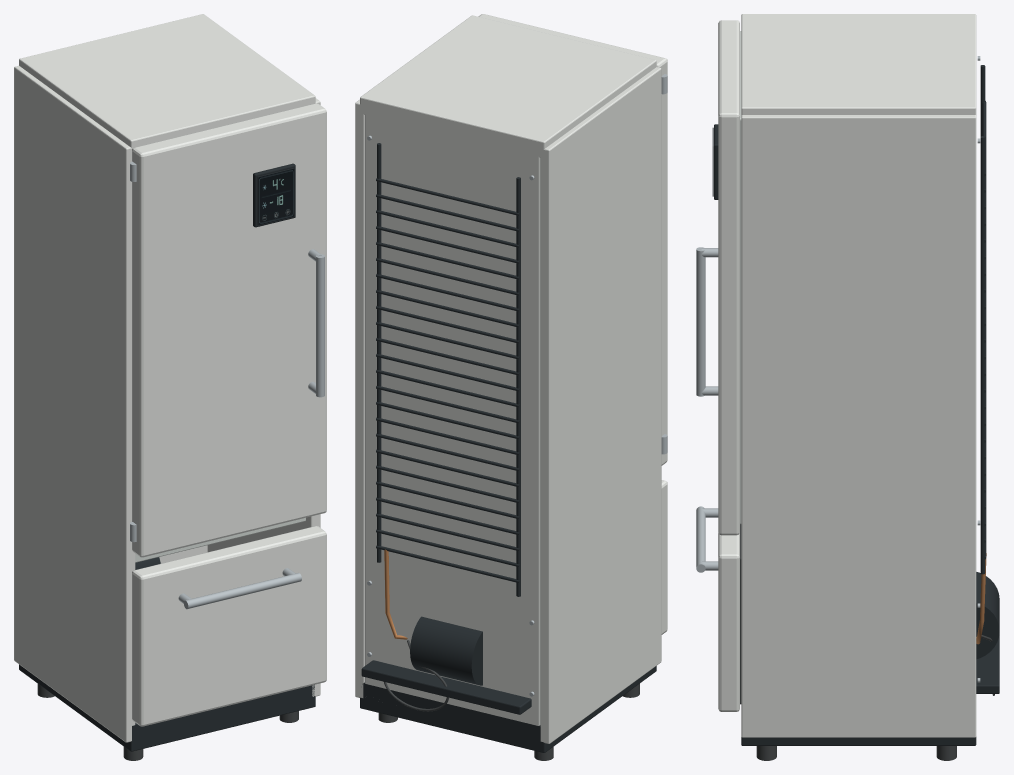
Rendered from household-two-door-refrigerator.glb.
3 views of the same model, side by side, from view 1: azimuth 30°, elevation 25°; view 2: azimuth 150°, elevation 25°; view 3: azimuth 270°, elevation 25° (orthographic). The views are drawn at different scales.
Parts seen in each view (by area): view 1: Upper door outer skin, Insulated left wall, Freezer drawer front, Insulated roof, Chassis, CONTROL_ATLAS_FRONT, Upper door handle, Freezer drawer handle, Insulated right wall, Insulated compartment divider, Control panel bezel; view 2: Insulated back wall, Insulated left wall, Insulated roof, Insulated right wall, Chassis, Sealed compressor, Upper door outer skin, Rear machinery tray, Condenser vertical rail, Condenser vertical rail.001, Freezer drawer front, Condenser horizontal tube.012 (+23 smaller); view 3: Insulated right wall, Insulated roof, Upper door outer skin, Freezer drawer front, Condenser vertical rail.001, Chassis, Sealed compressor, Upper door handle, Rear machinery tray, Upper door inner liner, Freezer drawer handle.
Part boxes in pixels (box(x1,y1,x2,y2)): Upper door outer skin: box(132, 103, 326, 557); Insulated left wall: box(14, 65, 135, 742); Freezer drawer front: box(132, 526, 326, 726); Insulated roof: box(19, 14, 315, 148); Chassis: box(19, 664, 315, 751); CONTROL_ATLAS_FRONT: box(257, 168, 294, 225); Upper door handle: box(316, 254, 324, 397); Freezer drawer handle: box(183, 573, 301, 609); Insulated right wall: box(207, 98, 320, 696); Insulated compartment divider: box(135, 517, 305, 562); Control panel bezel: box(253, 163, 295, 227); Insulated back wall: box(365, 106, 540, 725); Insulated left wall: box(540, 67, 661, 743); Insulated roof: box(360, 15, 656, 157); Insulated right wall: box(355, 99, 364, 697); Chassis: box(360, 666, 656, 752); Sealed compressor: box(410, 616, 482, 685); Upper door outer skin: box(478, 14, 667, 465); Rear machinery tray: box(361, 660, 531, 714); Condenser vertical rail: box(516, 177, 520, 596); Condenser vertical rail.001: box(377, 143, 381, 562); Freezer drawer front: box(661, 480, 667, 634); Condenser horizontal tube.012: box(376, 354, 519, 391); Insulated right wall: box(741, 115, 976, 737); Insulated roof: box(741, 14, 976, 114); Upper door outer skin: box(718, 20, 739, 535); Freezer drawer front: box(718, 533, 739, 711); Condenser vertical rail.001: box(980, 136, 985, 574); Chassis: box(741, 737, 976, 745); Sealed compressor: box(976, 572, 999, 659); Upper door handle: box(696, 247, 705, 396); Rear machinery tray: box(976, 633, 999, 693); Upper door inner liner: box(740, 31, 741, 524); Freezer drawer handle: box(696, 506, 705, 572).
Size of the model in its own units: 0.601 by 1.85 by 0.775.
Materials: 8 (1 with a texture image).
